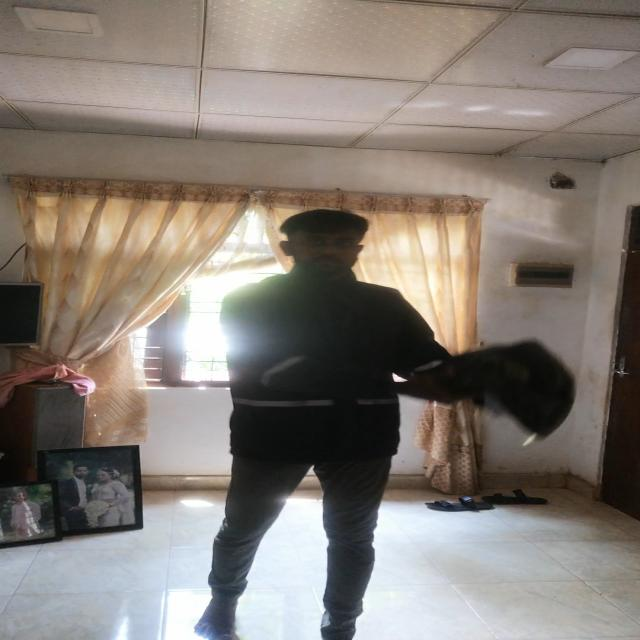Jacket_Wearer: (202, 266, 482, 462)
Person: (198, 201, 482, 640)
